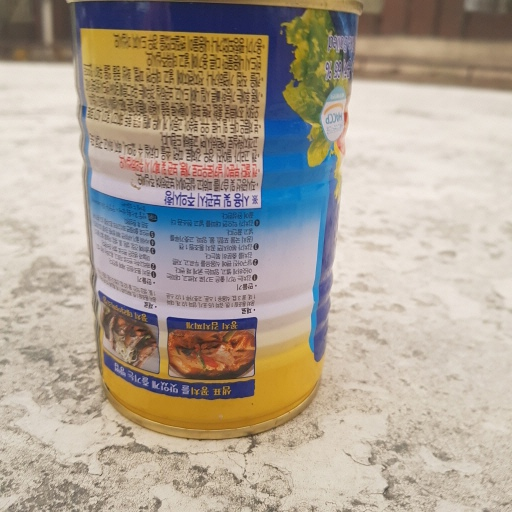Metal_1: (63, 1, 362, 437)
